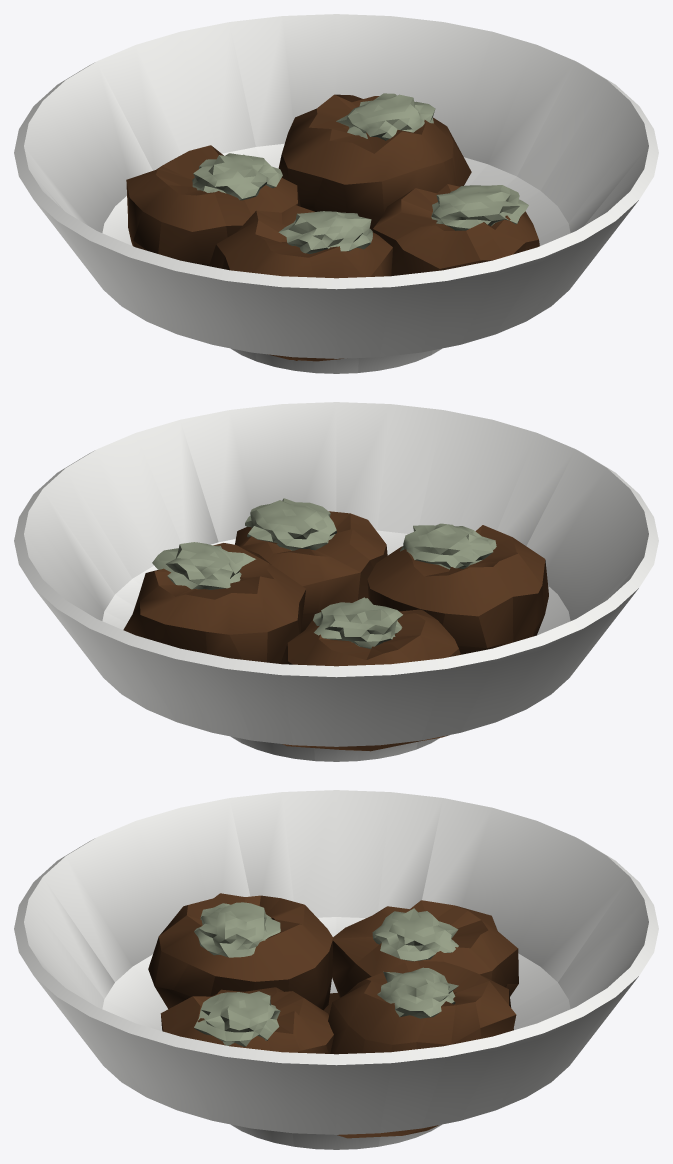
File: fruit_bowl_rotten.glb
The picture shows the model from 3 angles, top to bottom: view 1: azimuth 30°, elevation 25°; view 2: azimuth 150°, elevation 25°; view 3: azimuth 270°, elevation 25°; orthographic projection.
Visible parts, largest first — view 1: body; view 2: body; view 3: body.
Part boxes in pixels (<box>): body: <box>14,14,658,373</box>; body: <box>14,402,658,761</box>; body: <box>14,790,658,1149</box>.
Size of what is drawn, in the model's own units: 0.26 by 0.078 by 0.26.
